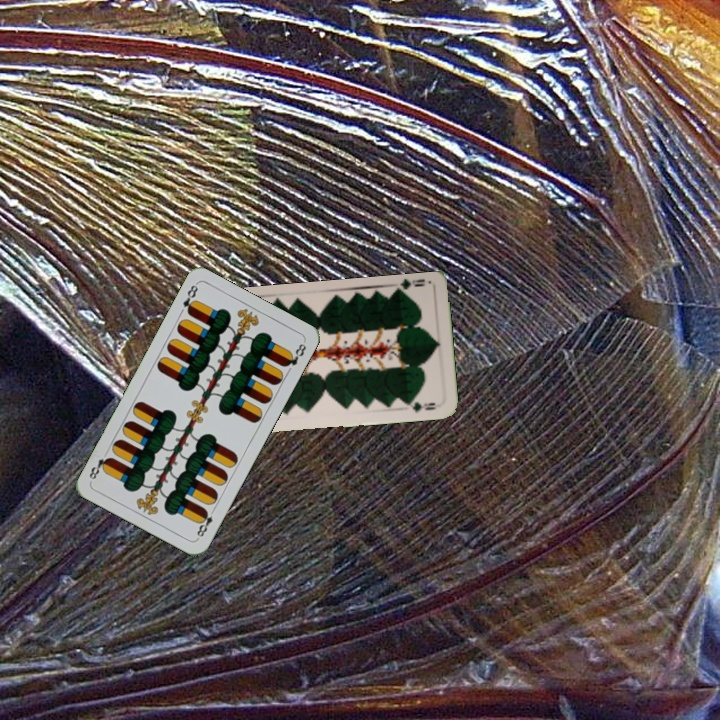E8: (193, 504, 218, 541), (178, 280, 201, 317)
G9: (392, 275, 428, 297)
